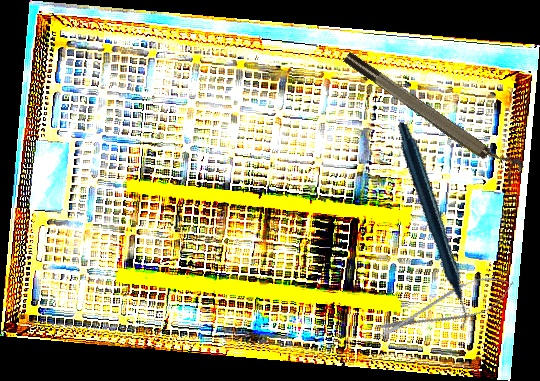Fixation Ring: (340, 41, 527, 187)
Handpiece: (344, 122, 519, 330)
Micro Scissor: (370, 266, 520, 350)
